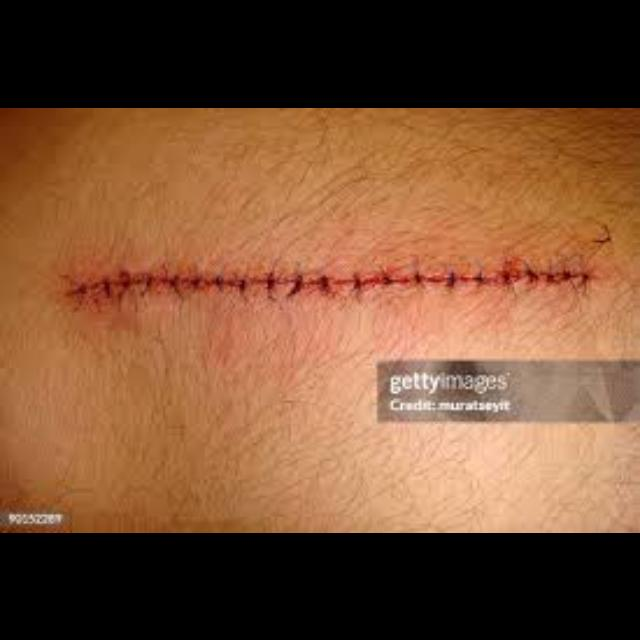scarring: (60, 265, 616, 307)
